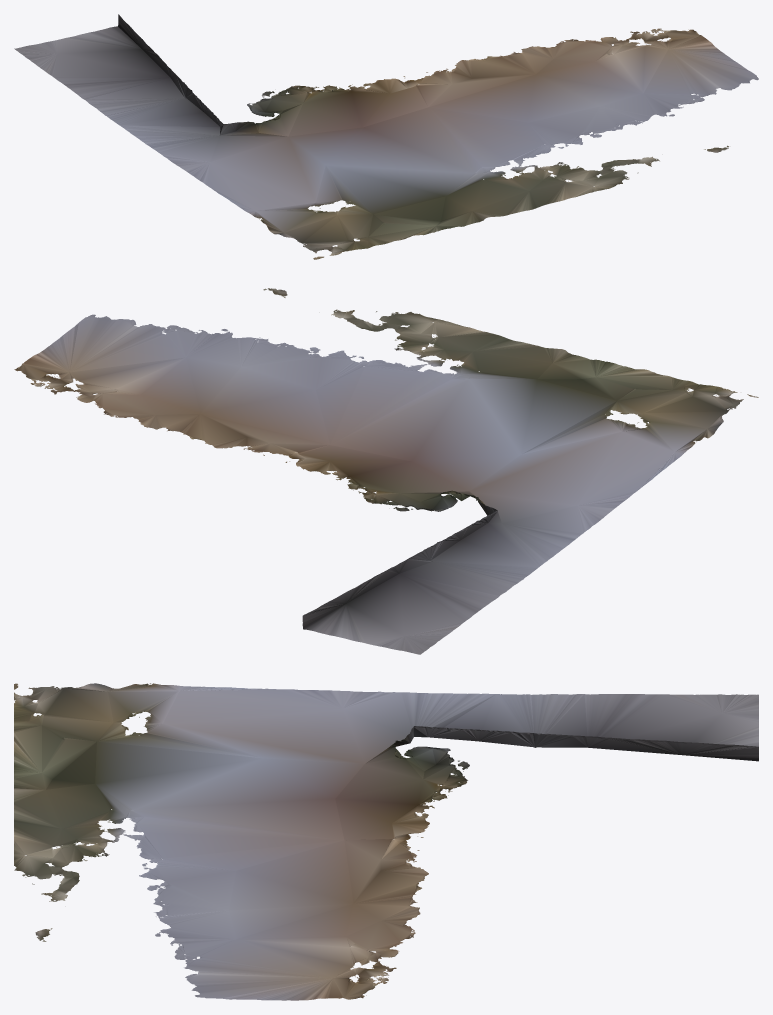
File: coarse.glb
3 renders of one model, top to bottom at view 1: azimuth 30°, elevation 25°; view 2: azimuth 150°, elevation 25°; view 3: azimuth 270°, elevation 25°, orthographic. The views are drawn at different scales.
Size of the model in its own units: 3.6 by 0.084 by 3.6.
